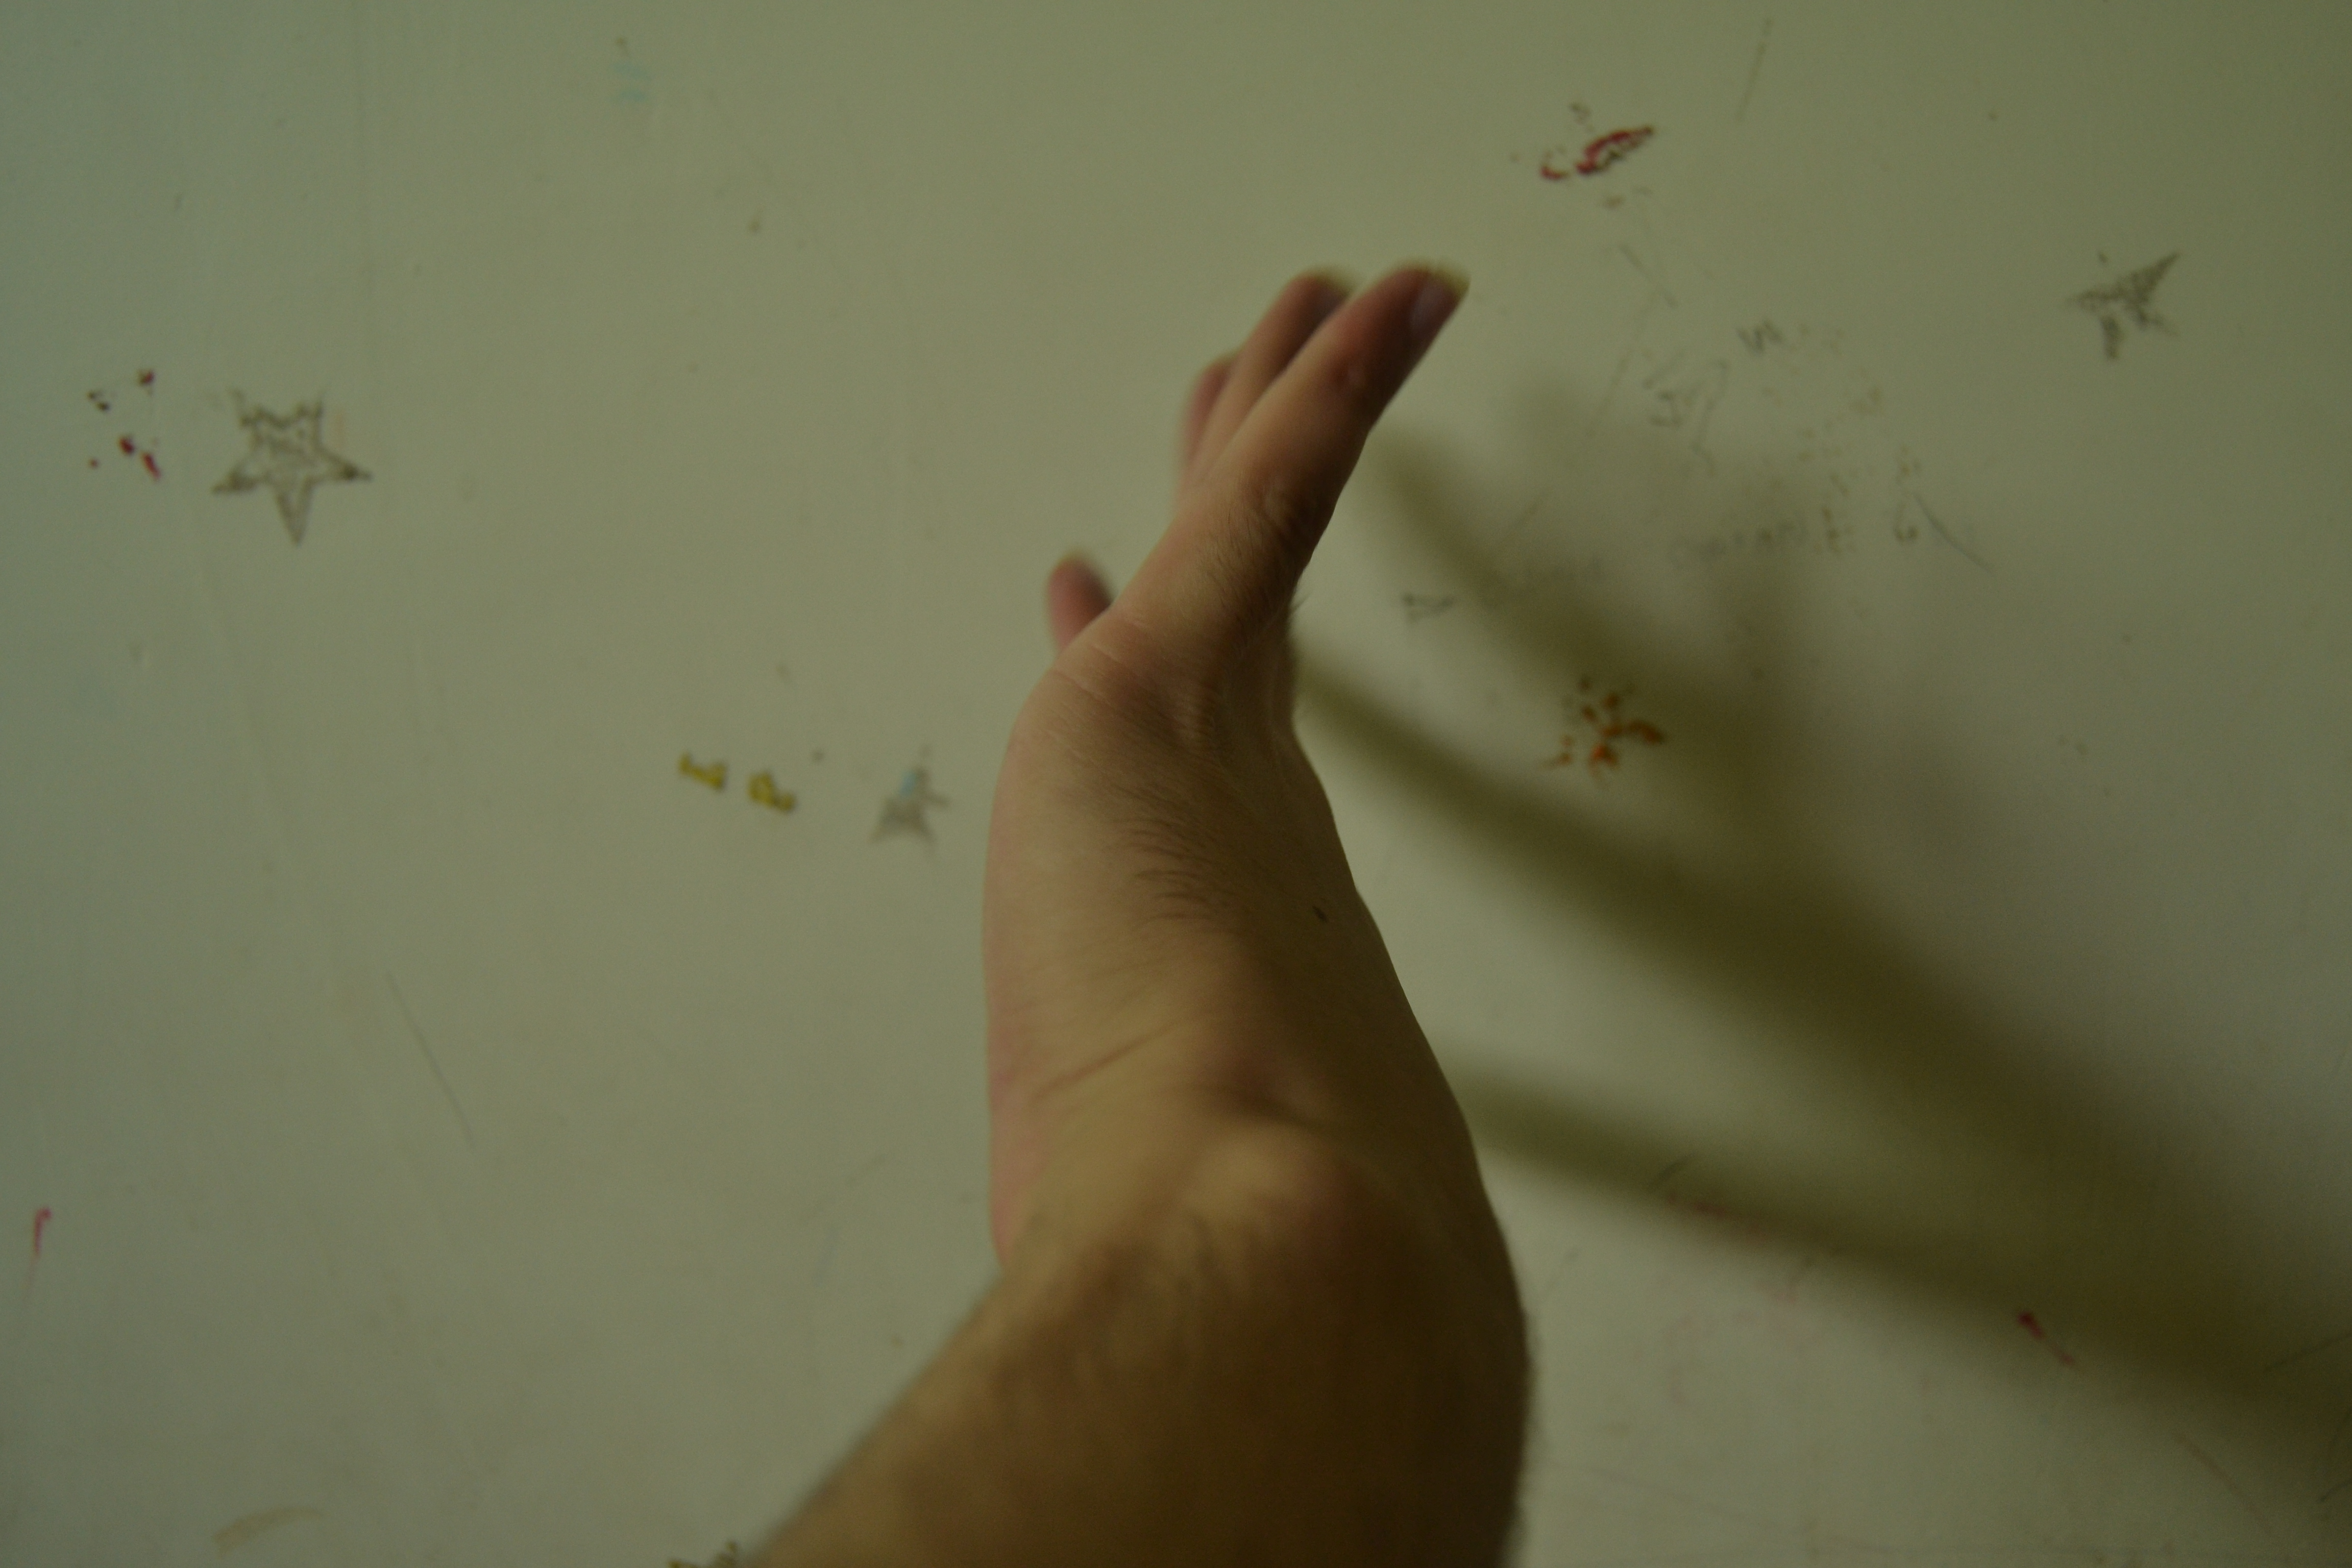move: (968, 210, 1655, 1568)
